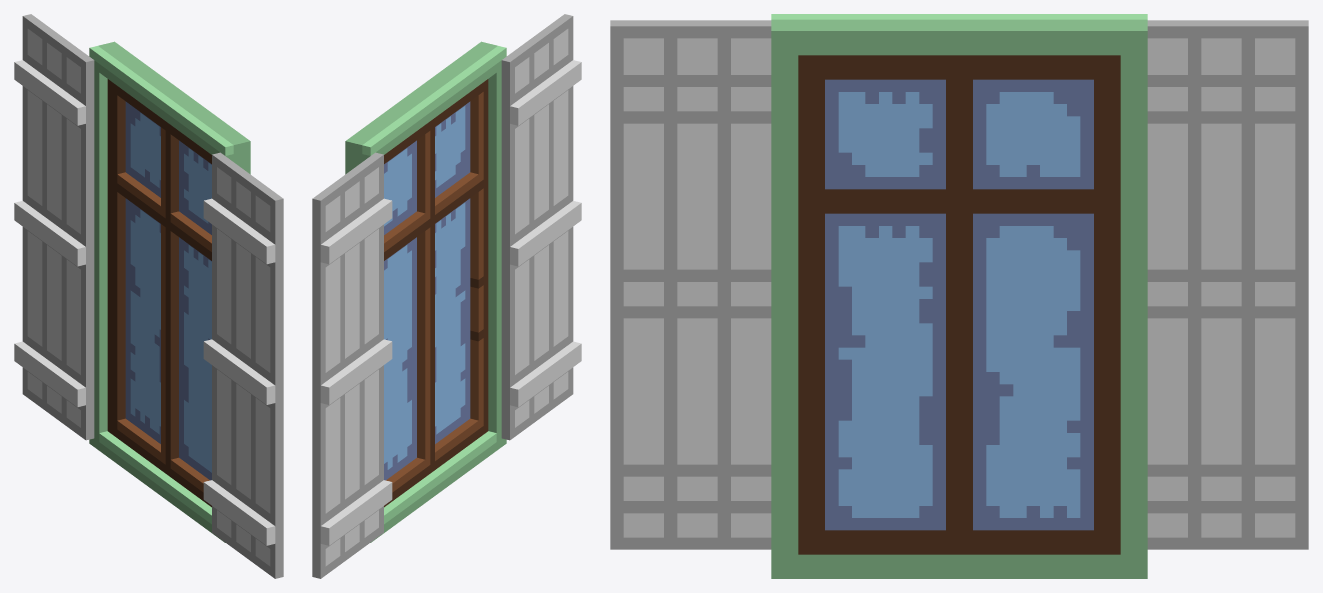
Rendered from window_textured_big_white_green.glb.
3 views of the same model, side by side, from view 1: azimuth 30°, elevation 25°; view 2: azimuth 150°, elevation 25°; view 3: azimuth 270°, elevation 25° (orthographic). The views are drawn at different scales.
Visible parts, largest first — view 1: window_textured_big_white_green; view 2: window_textured_big_white_green; view 3: window_textured_big_white_green.
Boxes of the visible parts, x1,y1,x2,y2 form: window_textured_big_white_green: (14,14,283,578); window_textured_big_white_green: (312,14,581,578); window_textured_big_white_green: (610,14,1308,578).
Bounding box in the file's own units: 0.5 × 4.5 × 5.2.
1 material, 1 textured.
